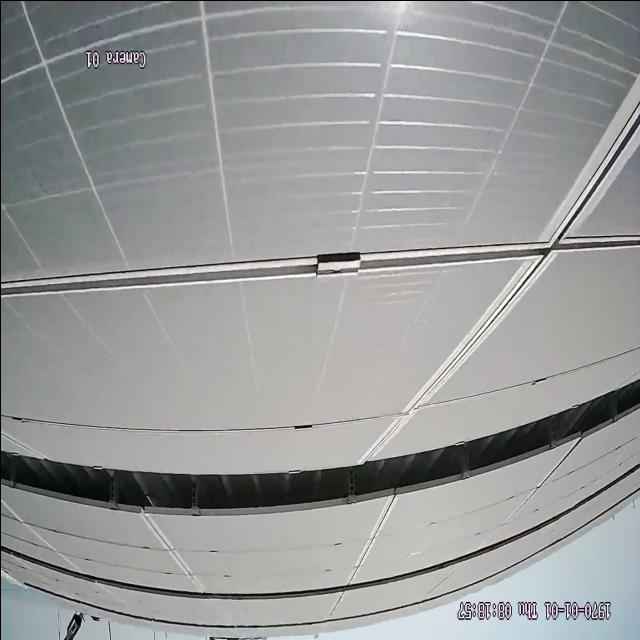interior panel: (10, 70, 640, 450), (507, 444, 576, 524), (347, 503, 396, 573), (141, 520, 197, 579)
outher panel: (0, 375, 640, 515)
